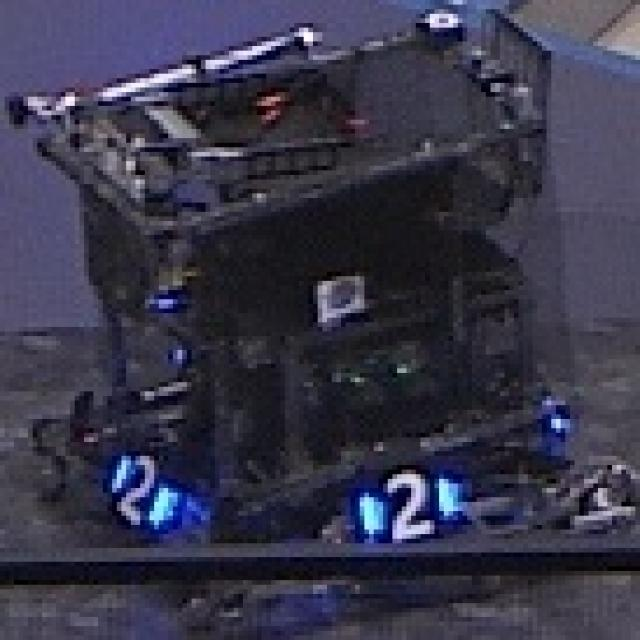B2: (350, 465, 462, 543), (103, 447, 177, 534)
